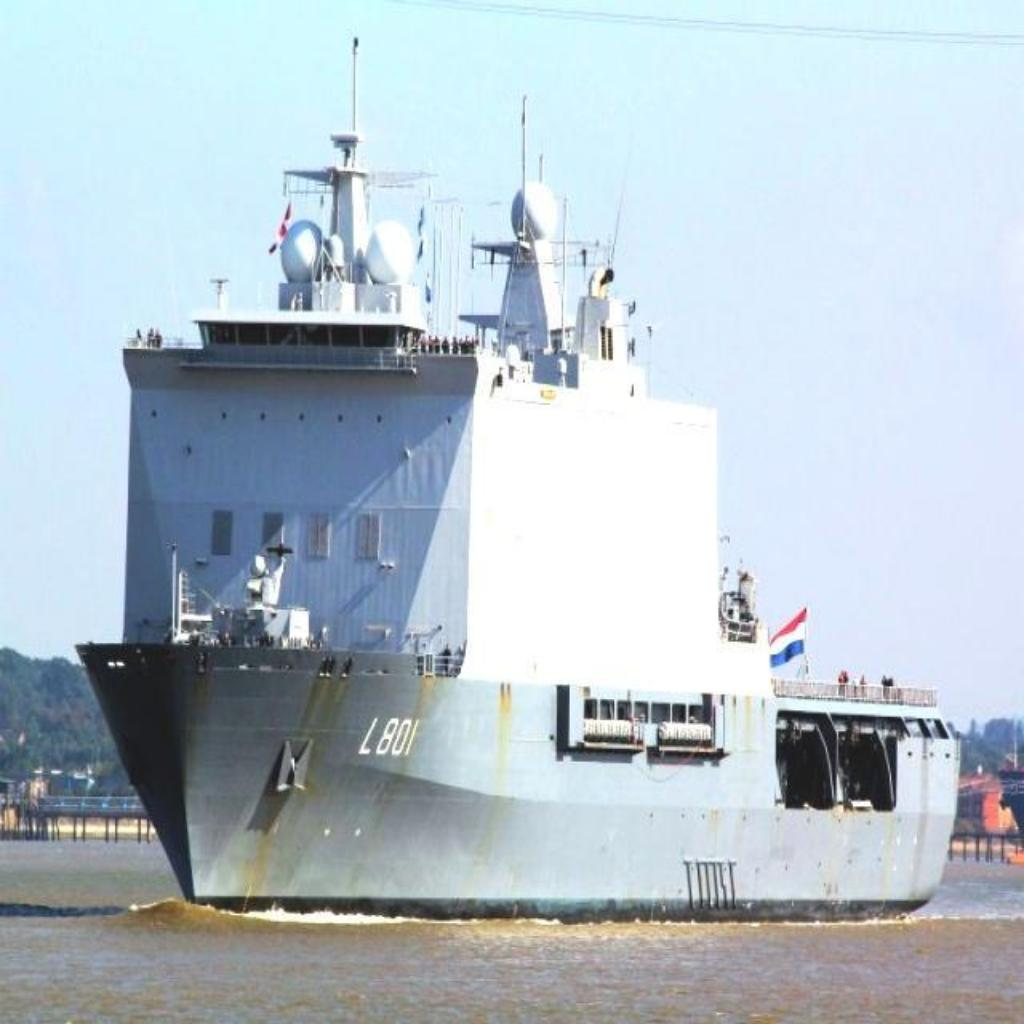Warship: (57, 66, 969, 940)
